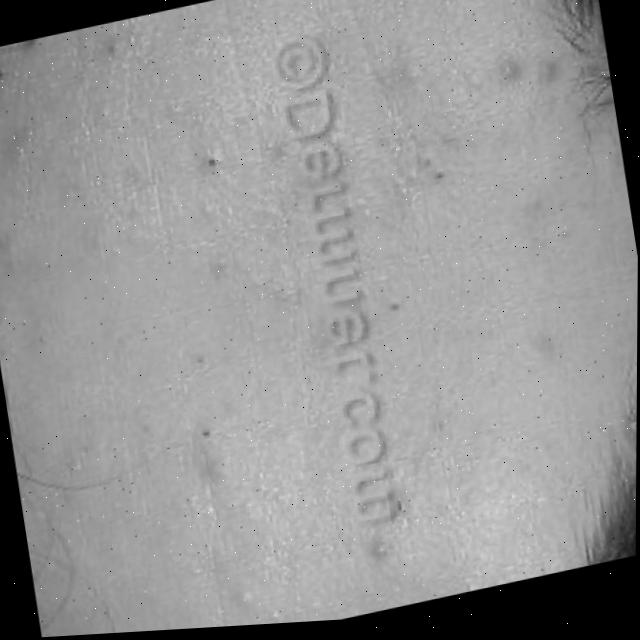Acne: (497, 41, 564, 93), (206, 151, 218, 169)
